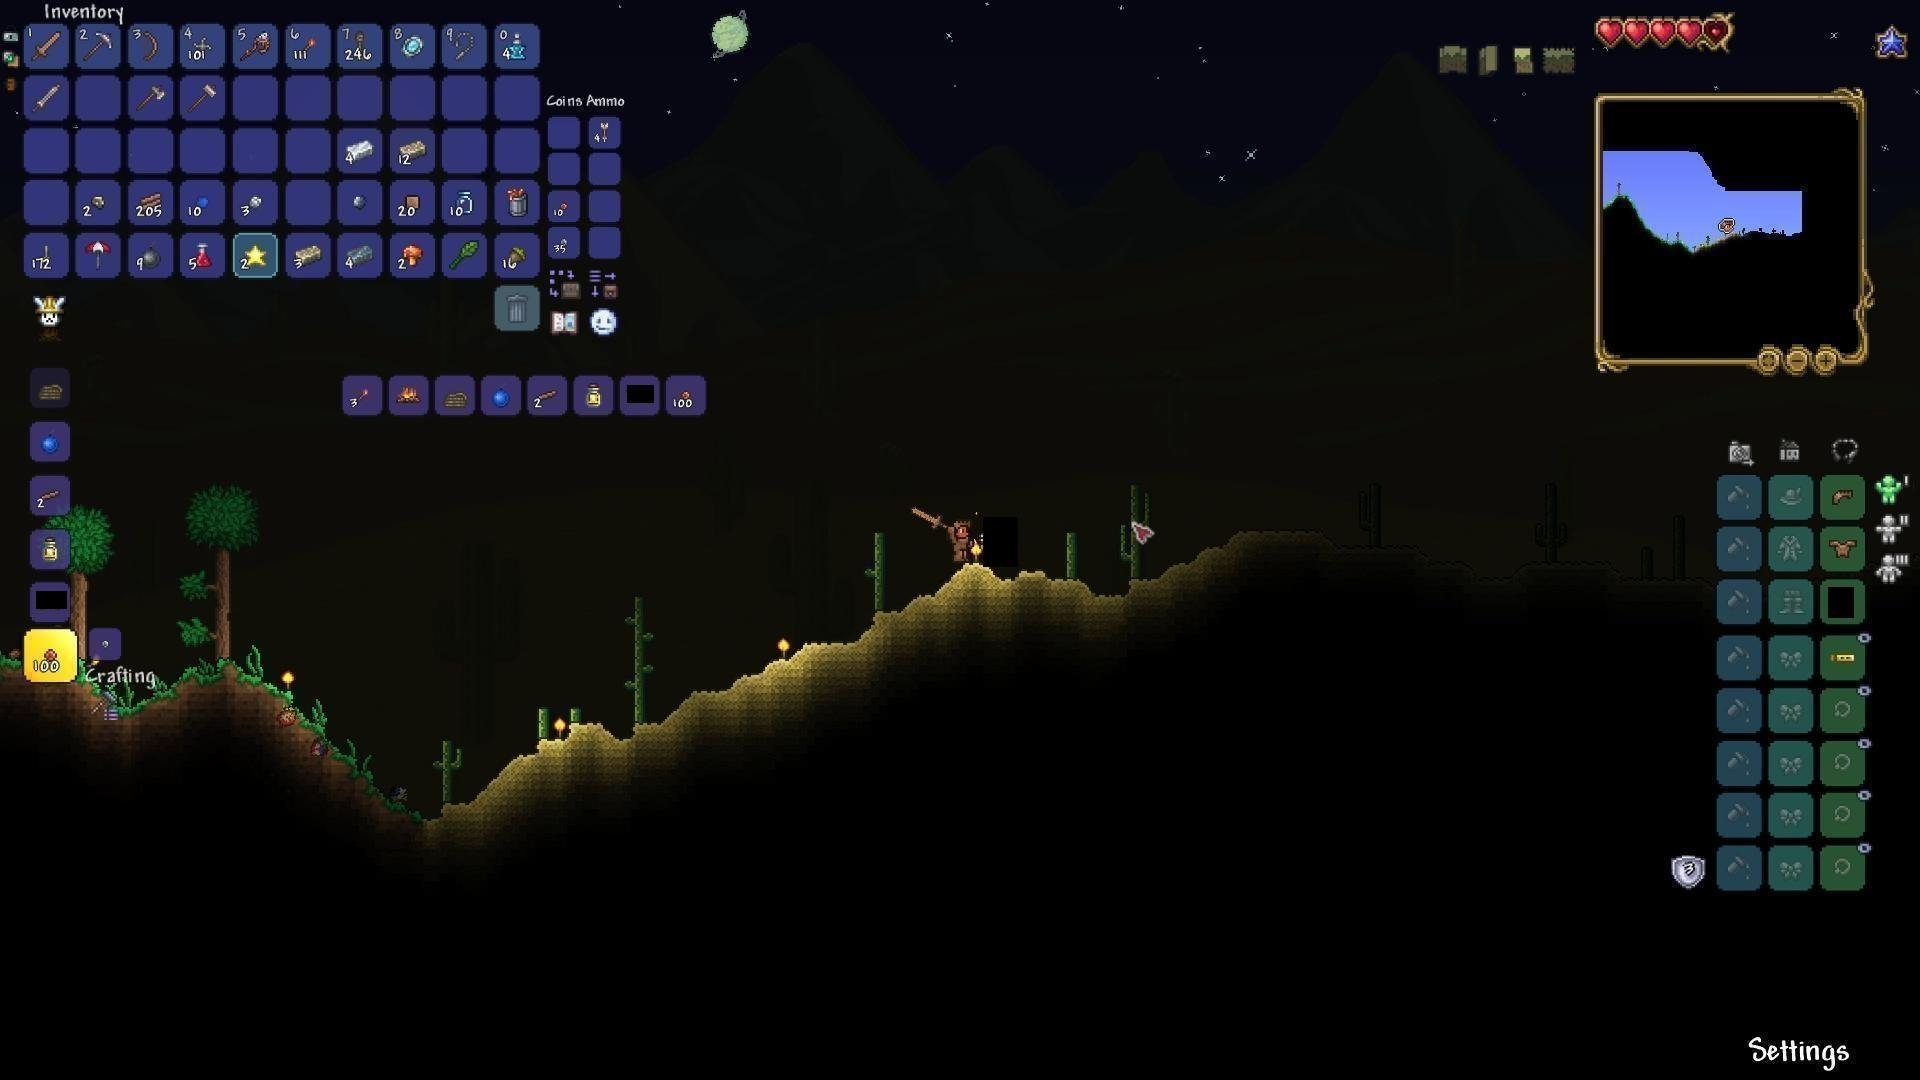breastplate: (1828, 538, 1859, 559)
helmet: (1826, 483, 1862, 513)
wood: (138, 189, 164, 215)
